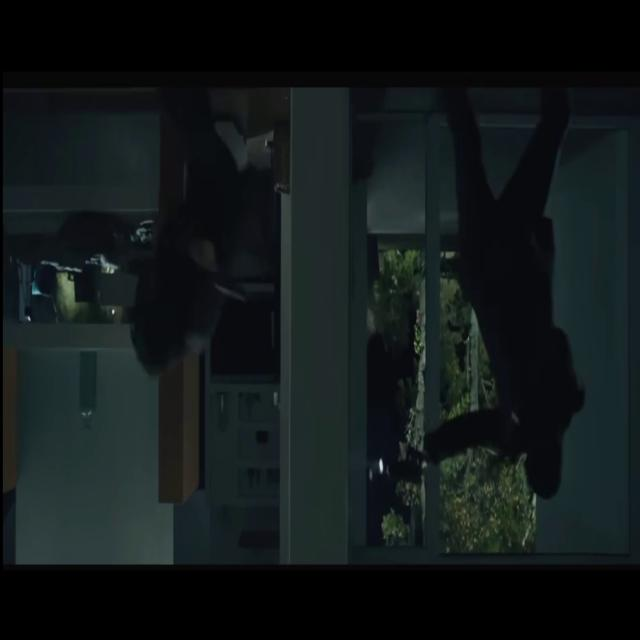weapons: (376, 424, 436, 502)
